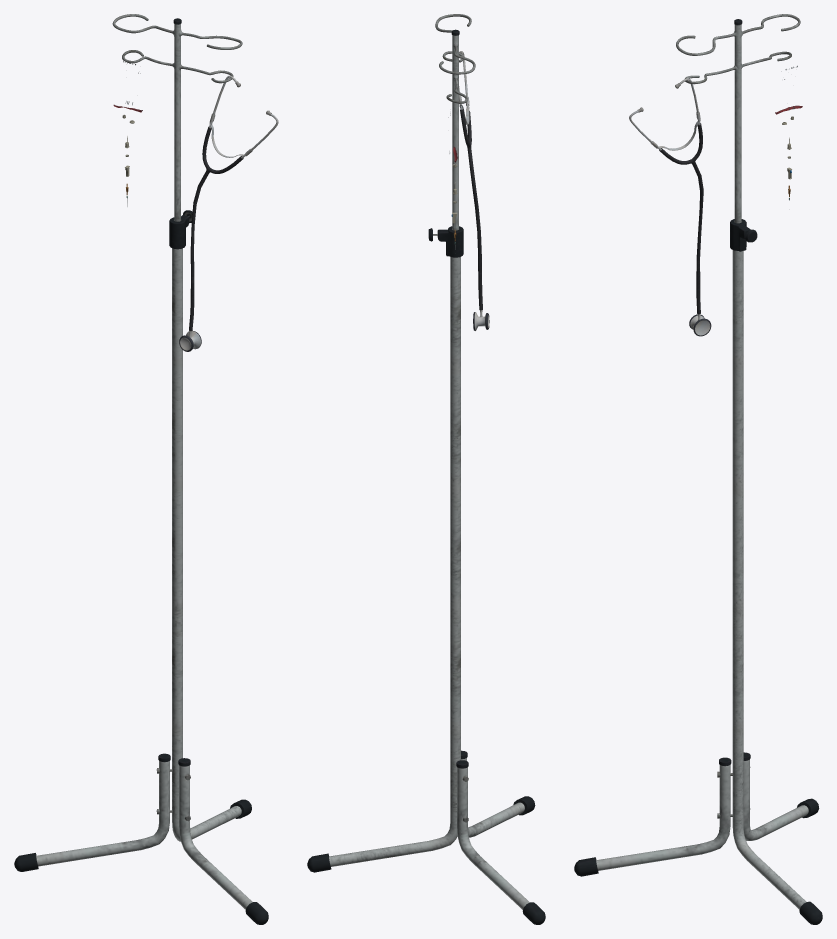
Rendered from Portasuero_suero.fbx.
3 renders of one model, left to right at view 1: azimuth 30°, elevation 25°; view 2: azimuth 150°, elevation 25°; view 3: azimuth 270°, elevation 25°, orthographic.
Visible parts, largest first — view 1: Dripper_Main, Dripper_Legs, Stethoscope_Cable; view 2: Dripper_Main, Dripper_Legs, Stethoscope_Cable; view 3: Dripper_Main, Dripper_Legs, Stethoscope_Cable.
Part boxes in pixels (<box>): Dripper_Main: <box>112,14,251,841</box>; Dripper_Legs: <box>14,753,268,924</box>; Stethoscope_Cable: <box>179,126,243,351</box>; Dripper_Main: <box>307,14,475,872</box>; Dripper_Legs: <box>456,750,545,924</box>; Stethoscope_Cable: <box>460,109,489,330</box>; Dripper_Main: <box>676,14,822,924</box>; Dripper_Legs: <box>574,752,819,876</box>; Stethoscope_Cable: <box>659,123,711,336</box>.
Bounding box in the file's own units: 50.05 × 171 × 45.2.
2 materials, 2 textured.
